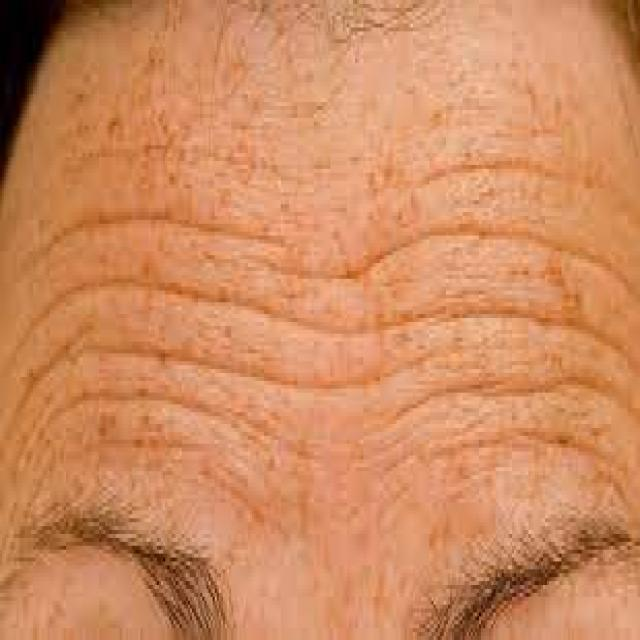Wrinkles: (10, 274, 640, 375), (6, 316, 529, 435), (8, 387, 312, 483), (402, 425, 635, 501), (374, 365, 640, 424), (24, 209, 292, 264), (37, 142, 314, 183), (404, 148, 625, 190)
